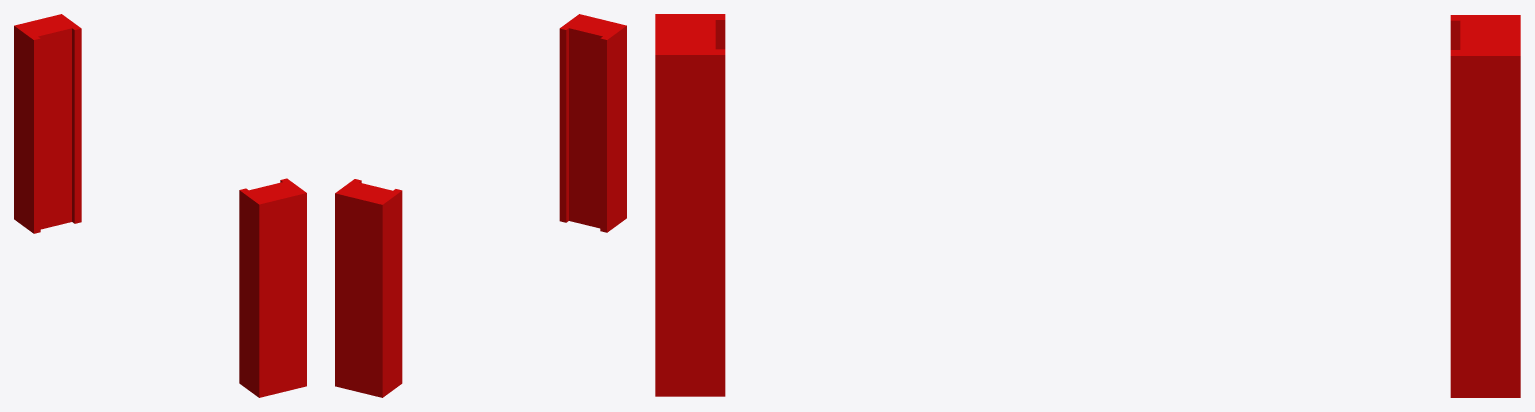
Rendered from Arc_01_Plus_Lod0.fbx.
The picture shows the model from 3 angles, left to right: view 1: azimuth 30°, elevation 25°; view 2: azimuth 150°, elevation 25°; view 3: azimuth 270°, elevation 25°; orthographic projection. The views are drawn at different scales.
Visible parts, largest first — view 1: Arc_01_Plus_Lod0; view 2: Arc_01_Plus_Lod0; view 3: Arc_01_Plus_Lod0.
Part boxes in pixels (x1=…): Arc_01_Plus_Lod0: x1=14, y1=14, x2=306, y2=397; Arc_01_Plus_Lod0: x1=335, y1=14, x2=626, y2=397; Arc_01_Plus_Lod0: x1=655, y1=14, x2=1520, y2=397.
Bounding box in the file's own units: 167 × 649 × 1486.
